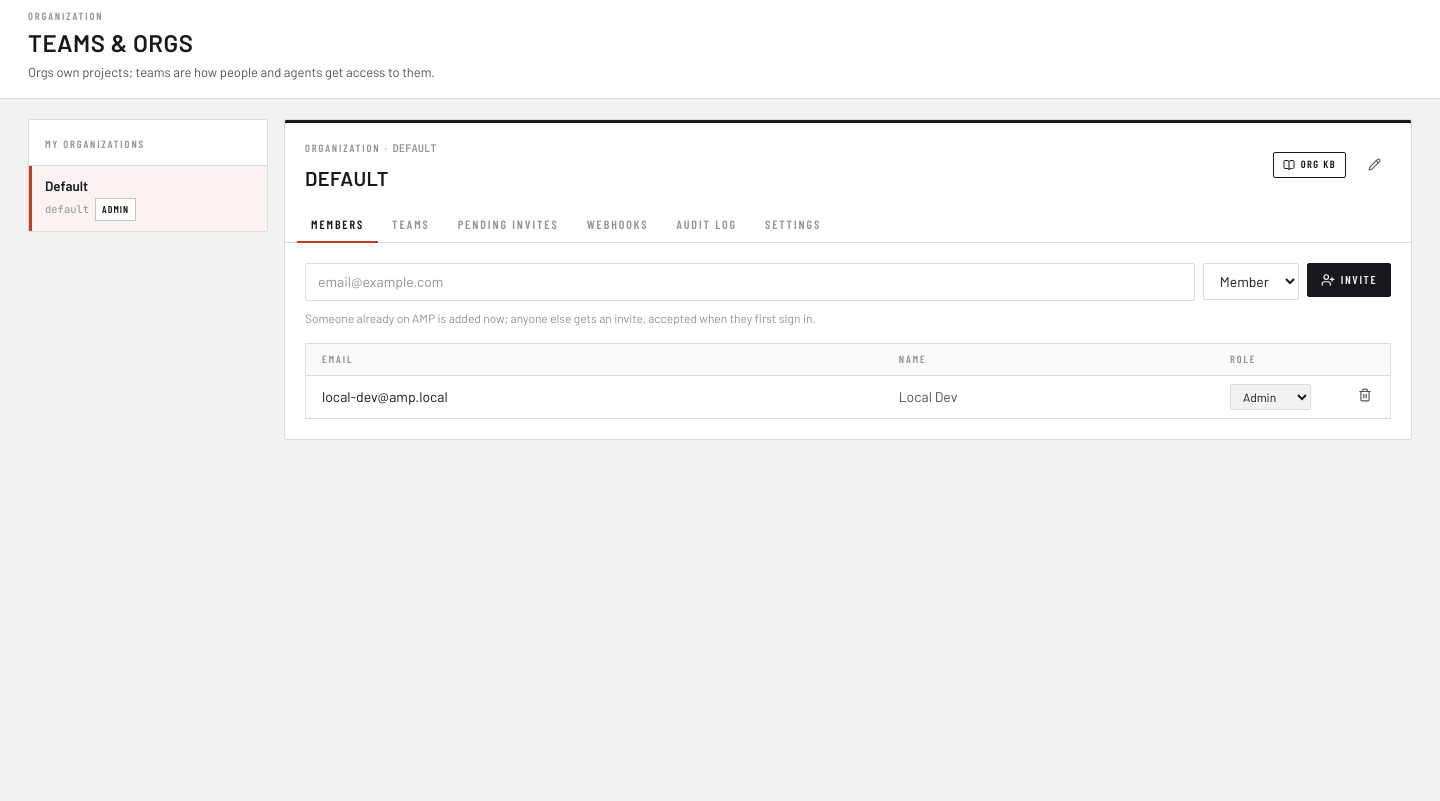
Test: Teams & orgs > Inbox access (AMP #4877) › an org admin who is on neither team still sees the action, and opens that team
Click the button "teams" at point(411, 224), box [378,205,444,243]
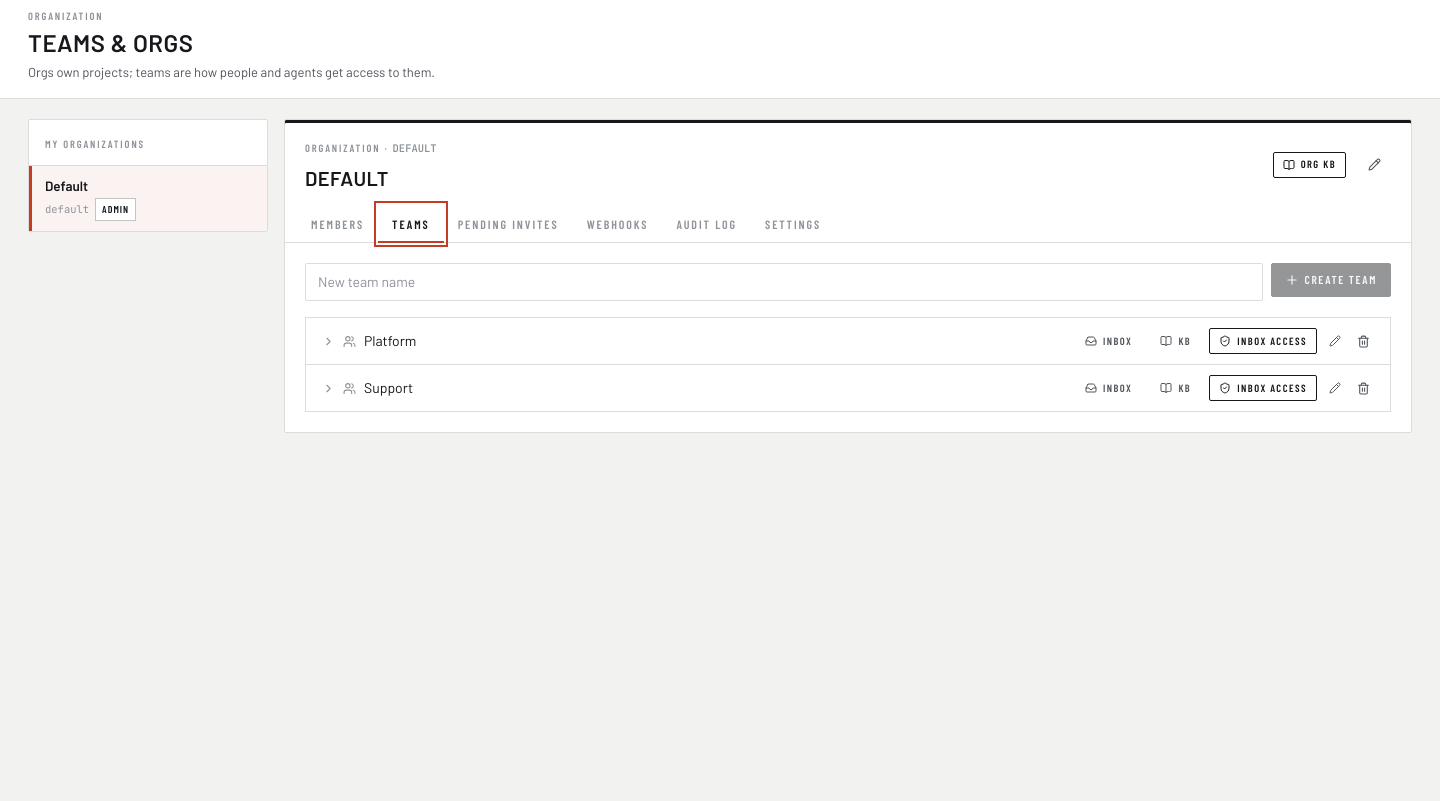
Click the 1st button "Inbox access" at point(1263, 341), box [1209,328,1317,354]
(page scrolled)
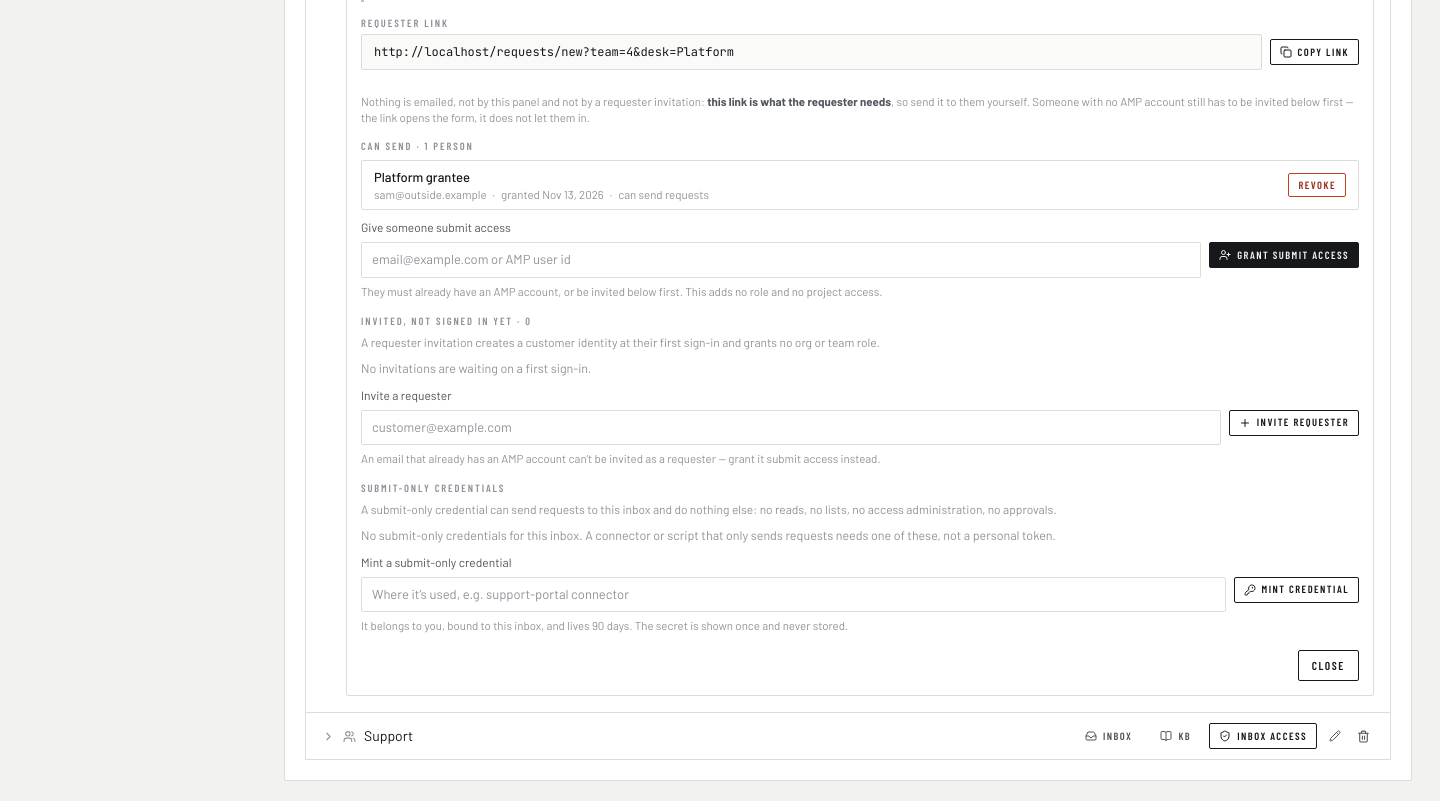
Result: the text "Platform grantee" is shown at [374,169,470,185]
Click the button "Inbox access" at point(1263, 736), box [1209,723,1317,749]
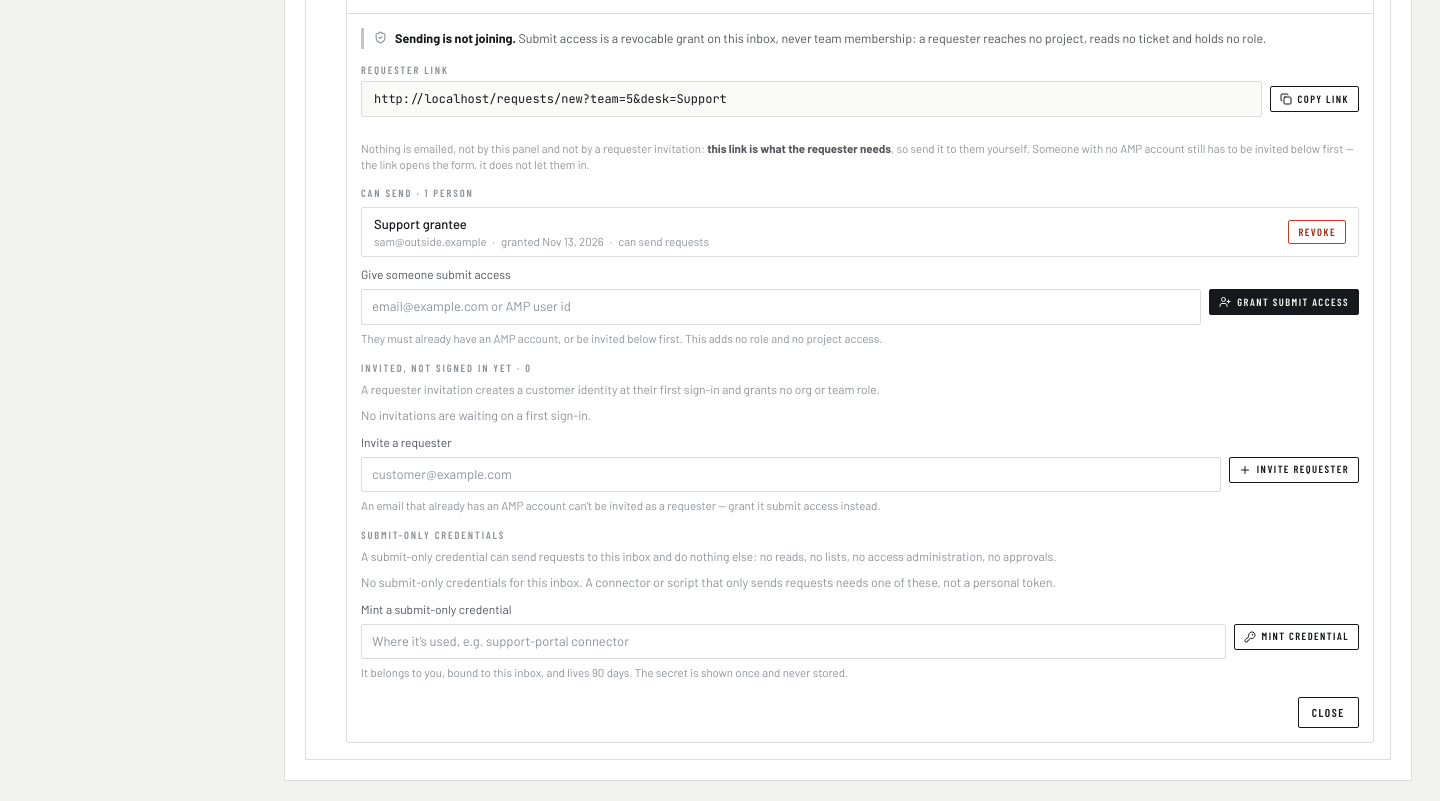
Result: the text "Support grantee" is shown at [374,216,467,232]
Result: the text "Platform grantee" is gone
